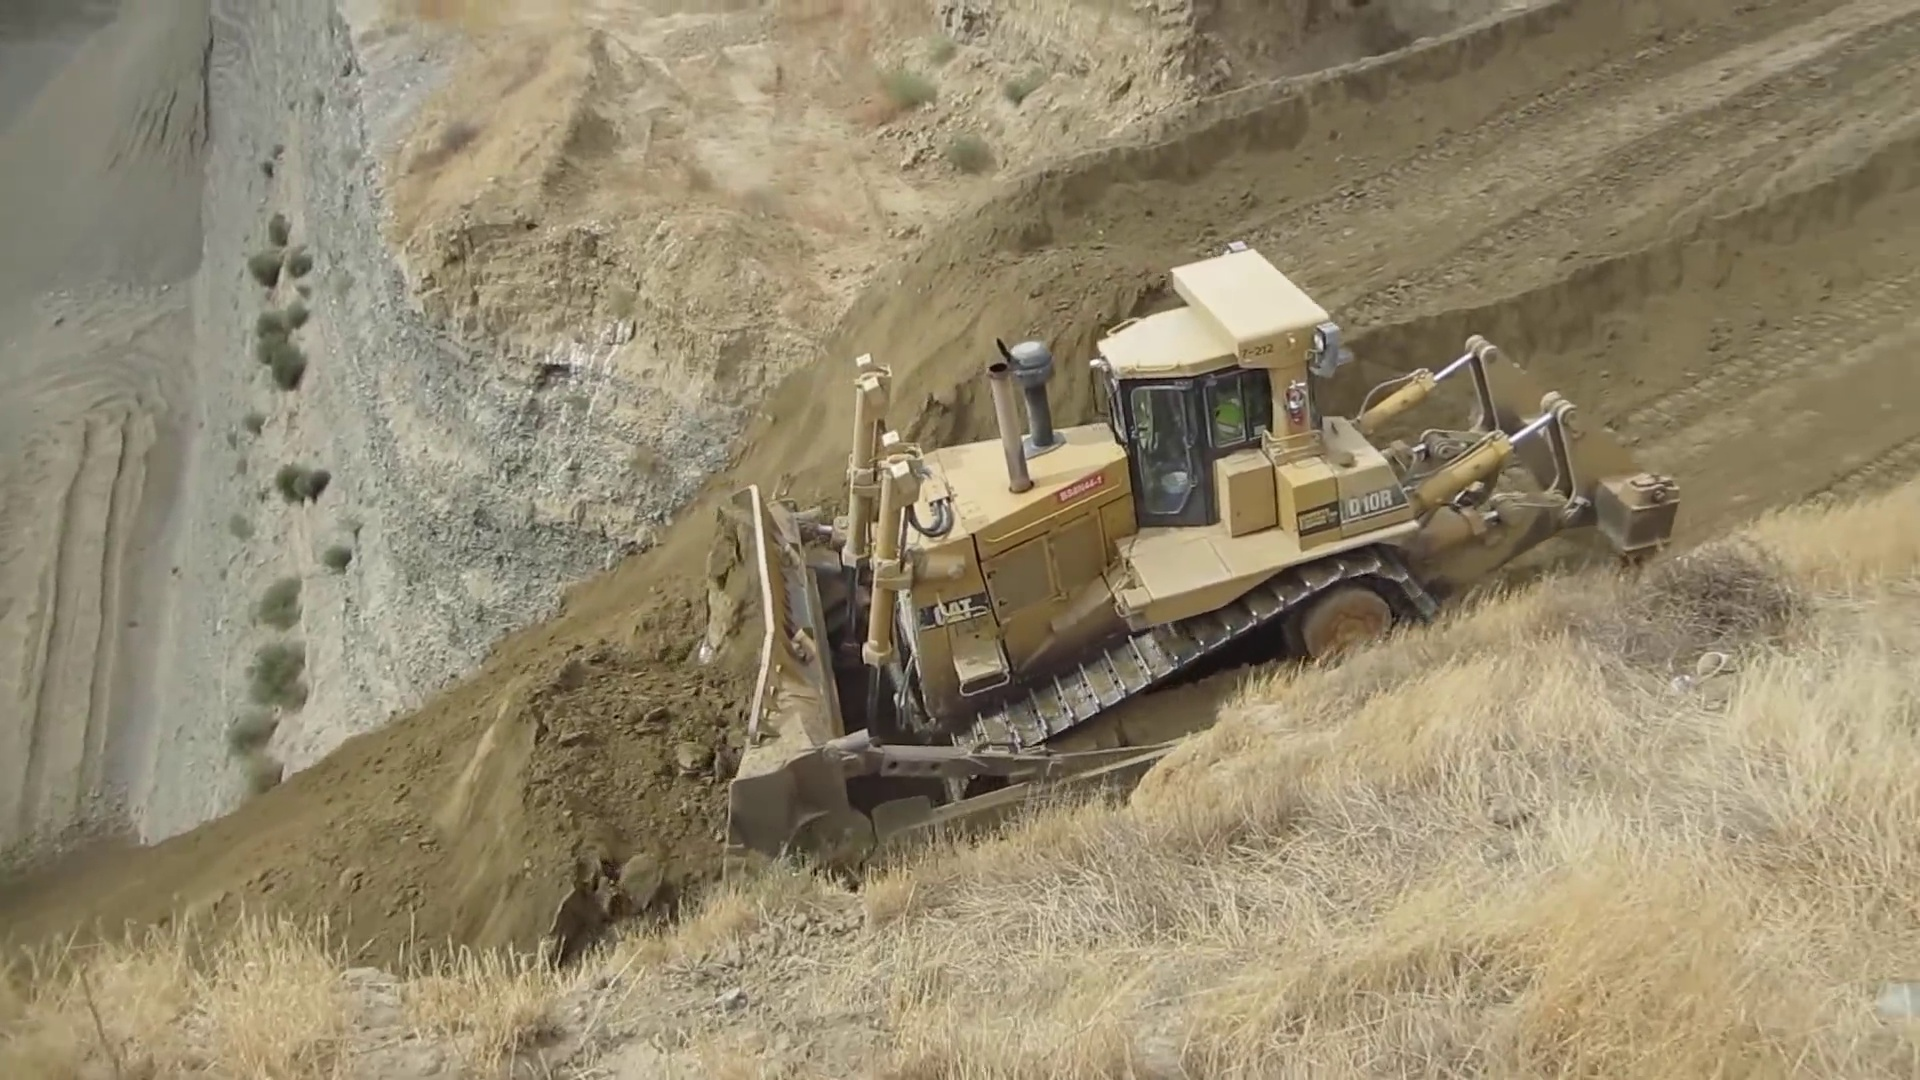bulldozer: (471, 245, 1683, 868)
